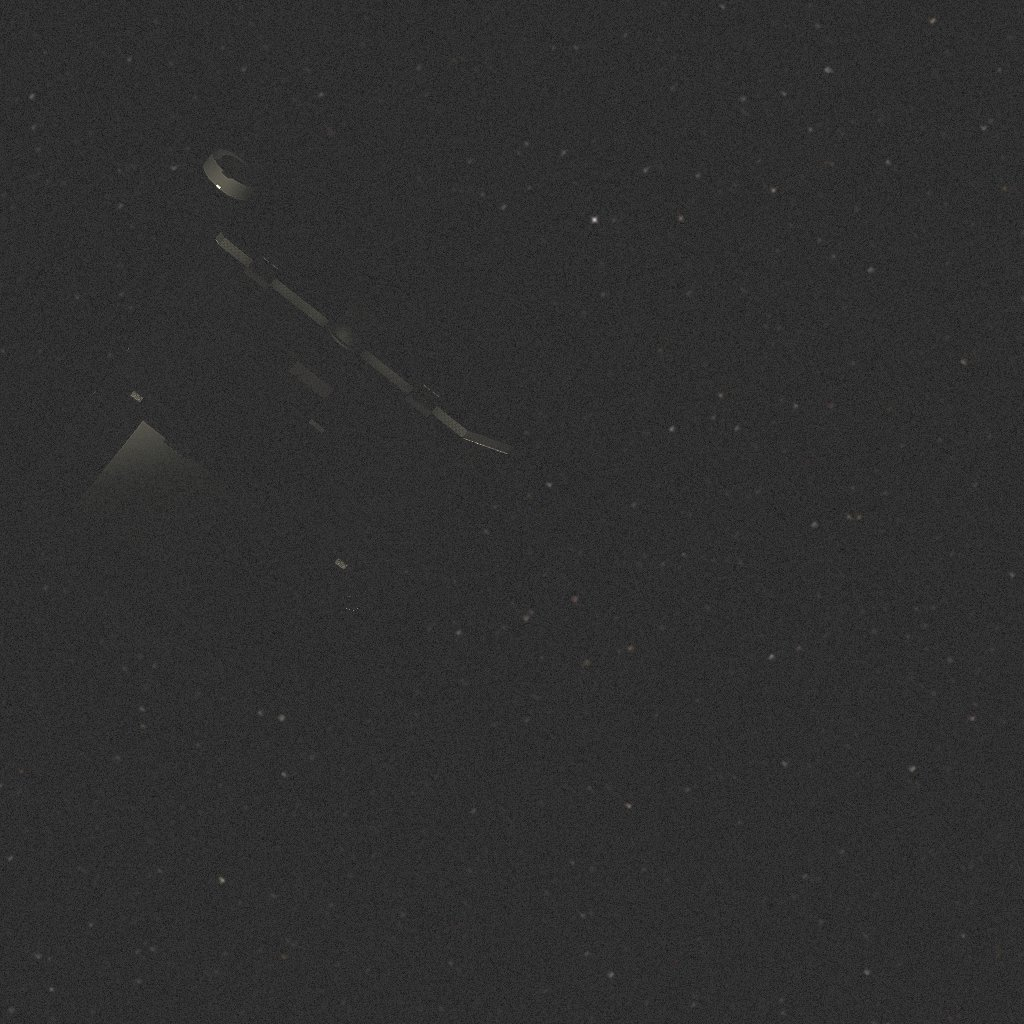proba_3_ocs: (0, 104, 570, 718)
